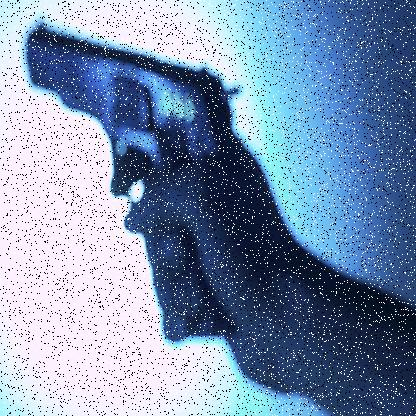pistol: (22, 16, 243, 346)
